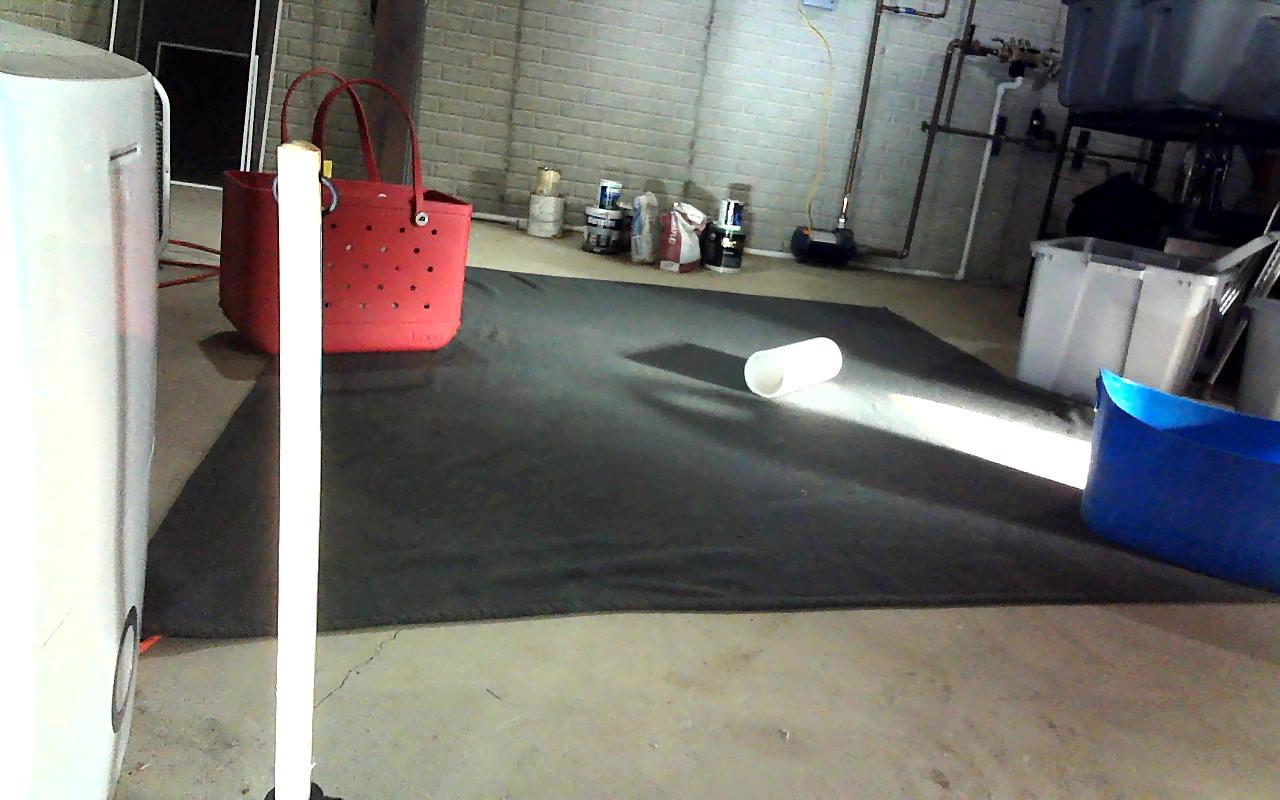coral: (744, 337, 842, 396)
